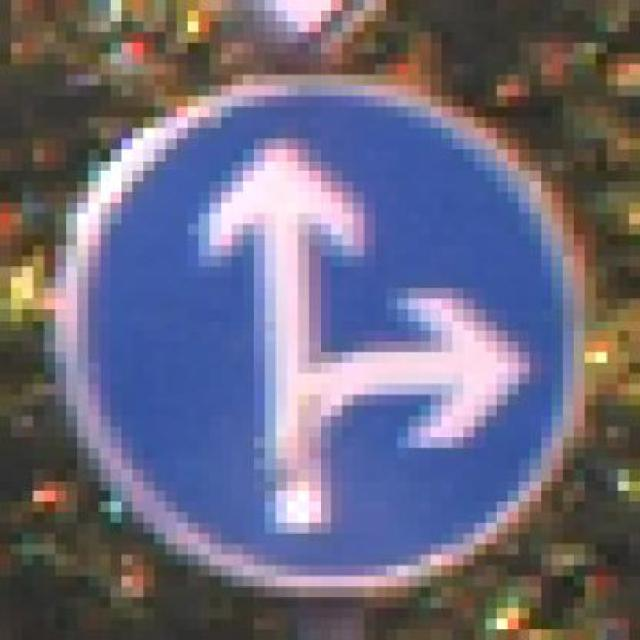Go Straight or Turn Right: (33, 64, 596, 598)
